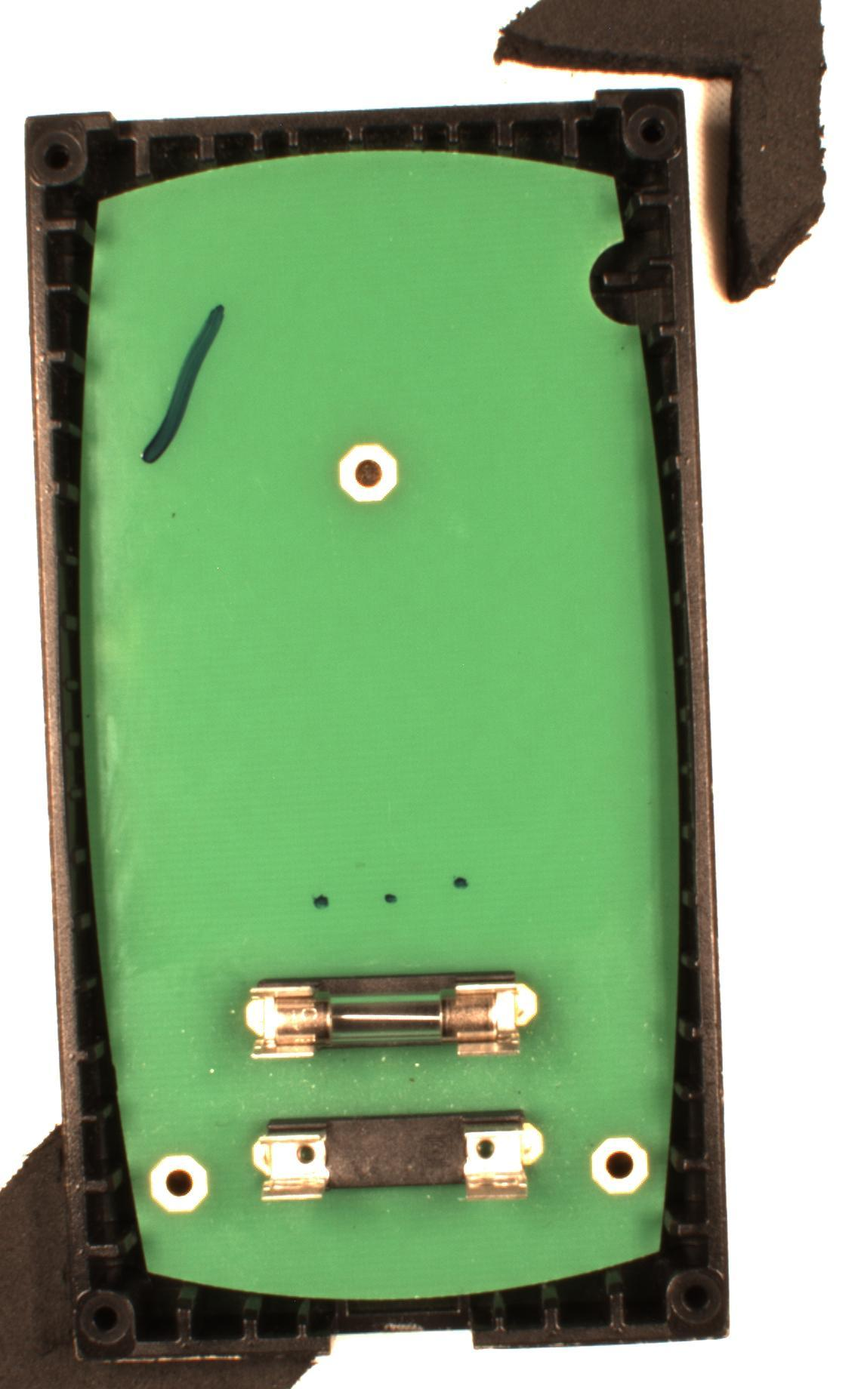Linijsko Ostecene: (140, 301, 227, 467)
Nepostojanje osiguraca: (253, 1107, 545, 1205)
Tockasto Ostecenje: (380, 888, 401, 908), (309, 892, 331, 911), (449, 874, 470, 891)
